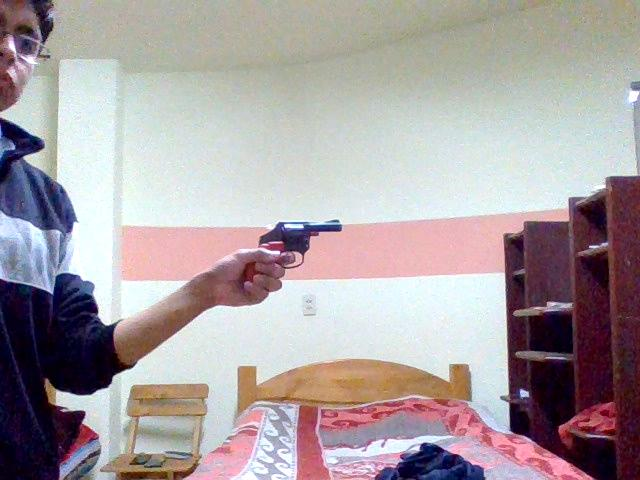pistol: (188, 183, 354, 321)
